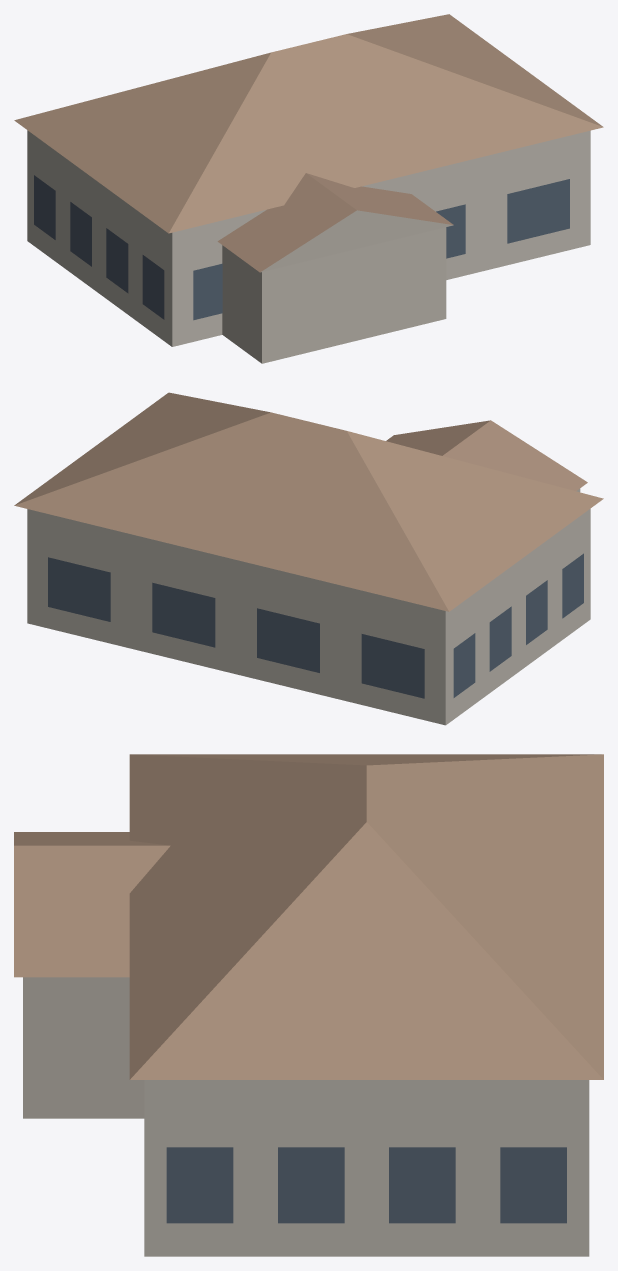
The model's file is house_09_rural_veranda.glb.
3 renders of one model, top to bottom at view 1: azimuth 30°, elevation 25°; view 2: azimuth 150°, elevation 25°; view 3: azimuth 270°, elevation 25°, orthographic. The views are drawn at different scales.
Parts seen in each view (by area): view 1: house_09_rural_veranda; view 2: house_09_rural_veranda; view 3: house_09_rural_veranda.
Boxes of the visible parts, x1,y1,x2,y2 form: house_09_rural_veranda: (14,14,603,363); house_09_rural_veranda: (14,392,603,725); house_09_rural_veranda: (14,754,603,1256).
Bounding box in the file's own units: 13 × 5.7 × 9.95.
